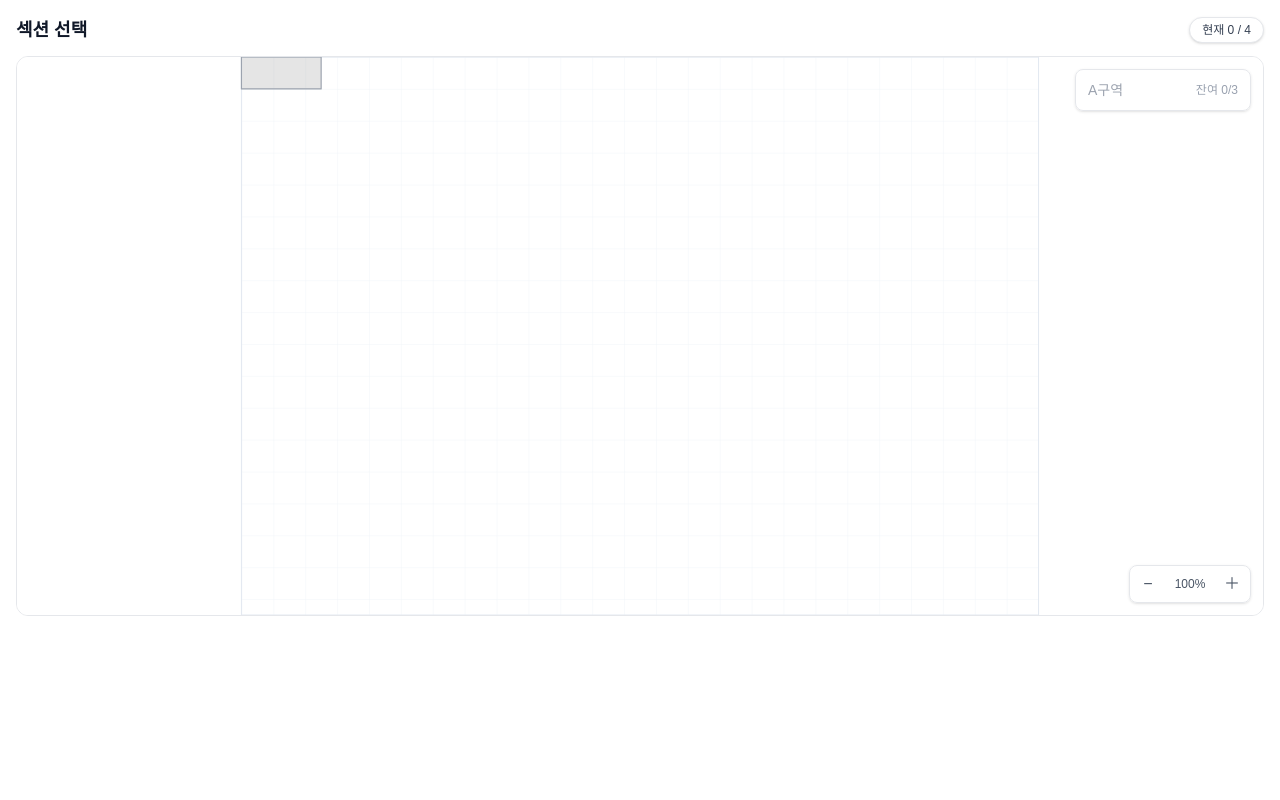
it: 매진 섹션도 진입할 수 있다
Expected: the text "현재 0 / 4" is shown, [1189,17,1264,43]
Click the button "A구역 잔여 0/3".
click(1163, 90)  # box [1080,74,1246,106]
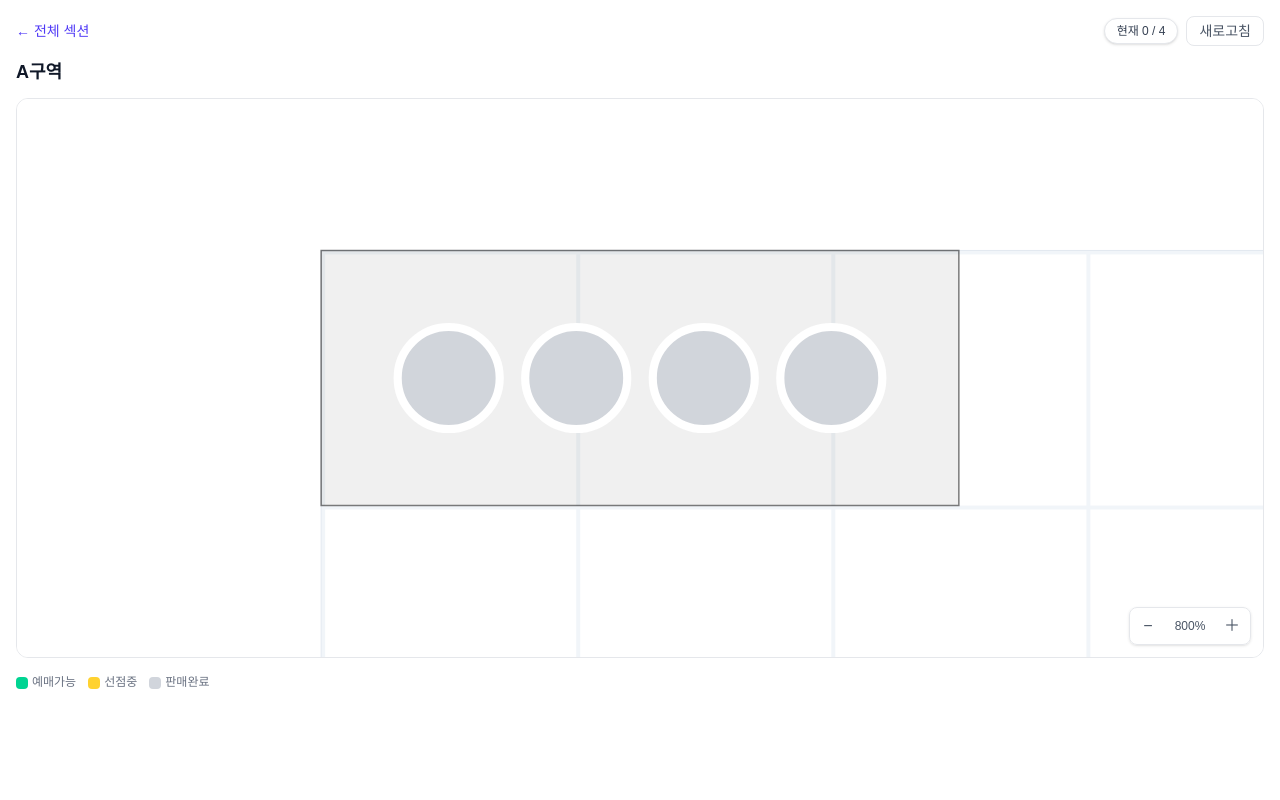
Result: the button "새로고침" is shown at [1186,16,1264,46]
